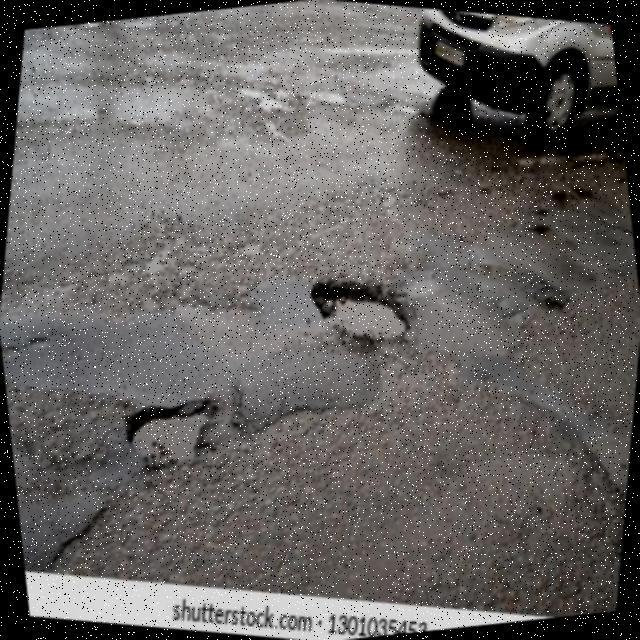Pothole: (308, 280, 408, 348), (128, 400, 212, 466)
